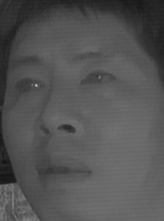eye: (77, 68, 118, 91), (11, 74, 47, 99)
mouth: (35, 148, 93, 189)
